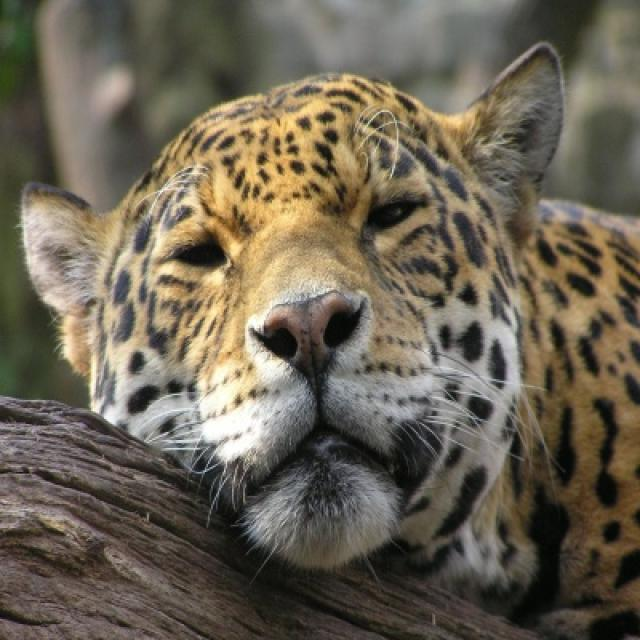Jaguar: (13, 36, 638, 638)
